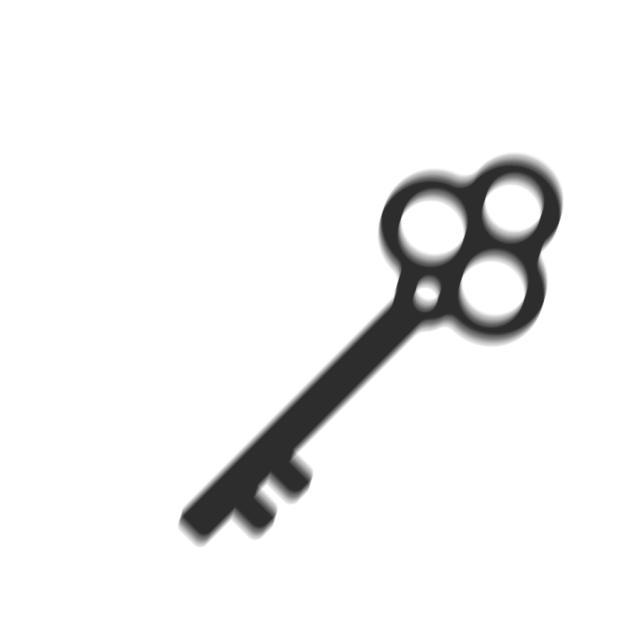key: (171, 150, 569, 556)
